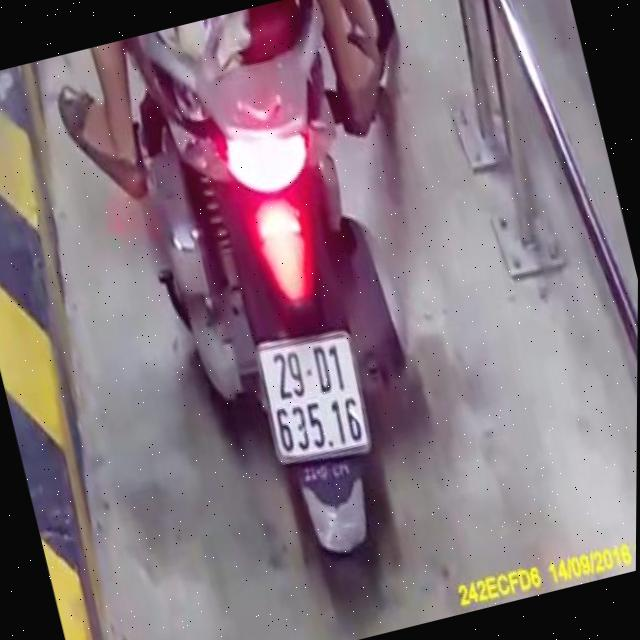motorcycle: (77, 0, 502, 622)
plate: (241, 315, 382, 477)
